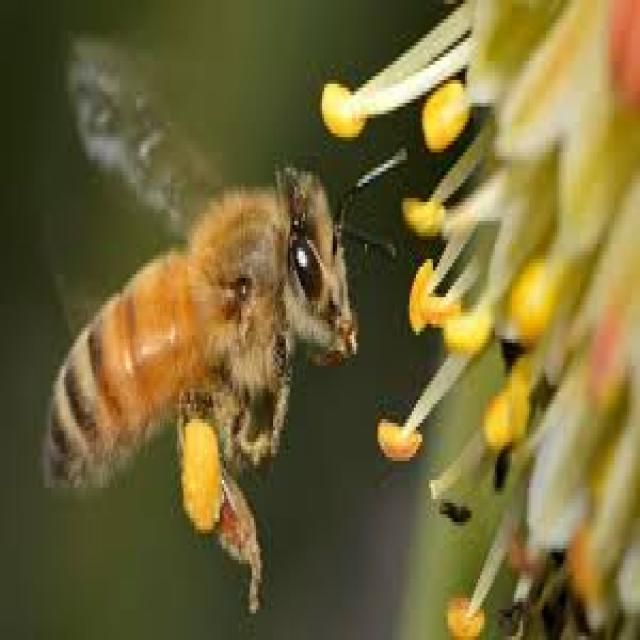Bees: (40, 34, 403, 624)
